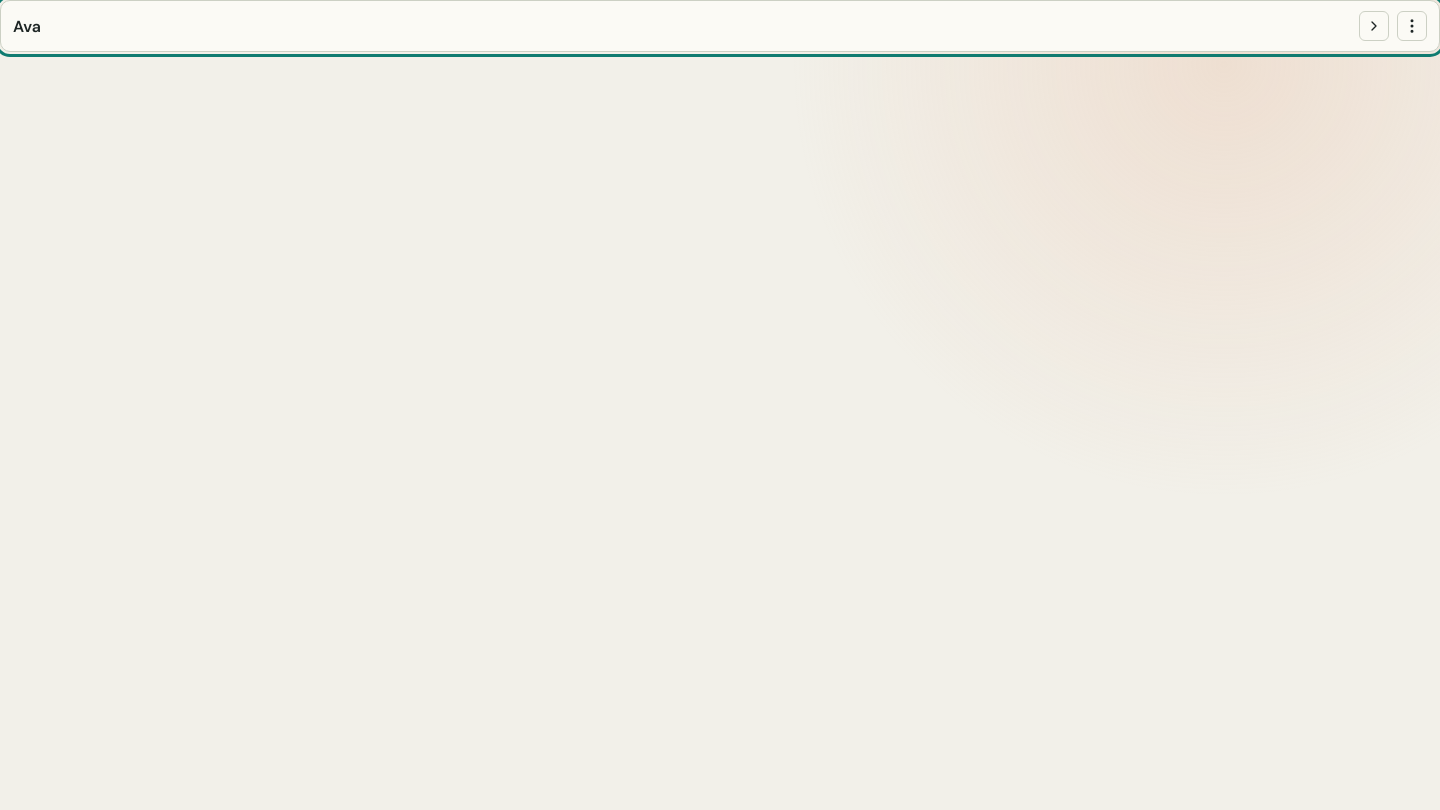
Test: PerformerCard details › opens details with Enter or Space when the card itself has focus
Step 1. Press Enter in the element "Ava", box [0,0,1439,52]
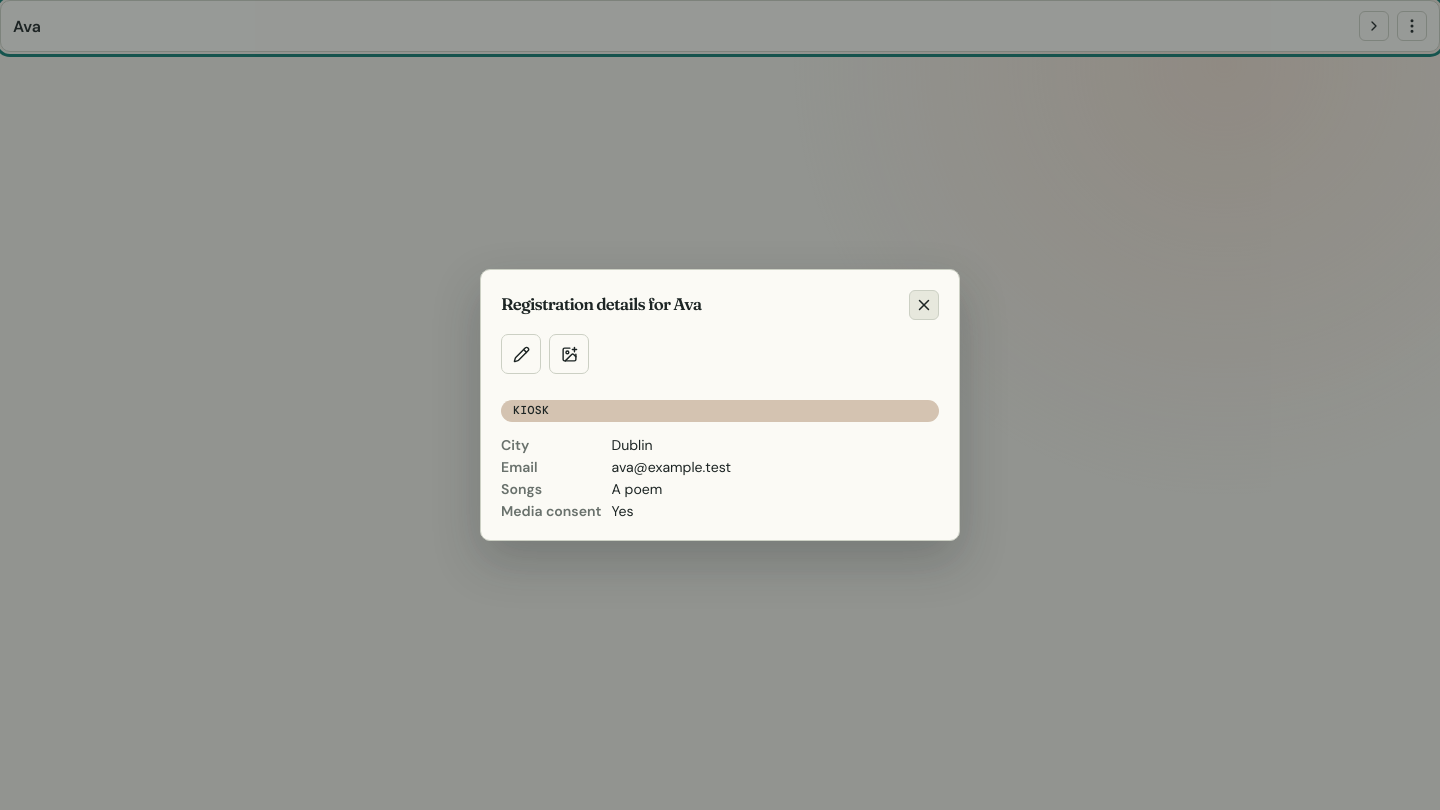
Expected: the dialog "Registration details for Ava" is shown, [480,269,960,541]
Step 2. Click the button named "Close" → (924, 305), box [909,290,939,320]
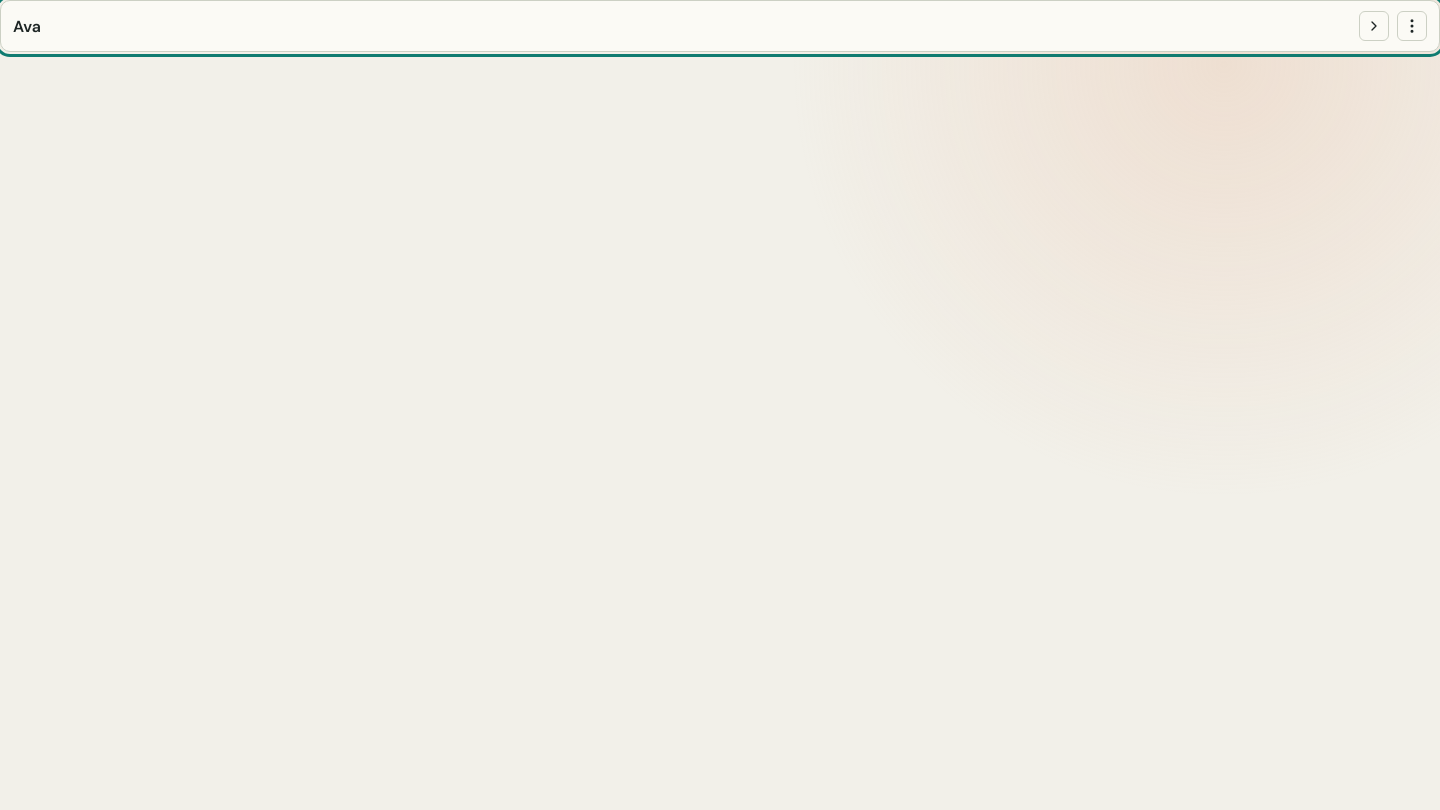
Step 3. Press Space in the element "Ava", box [0,0,1439,52]
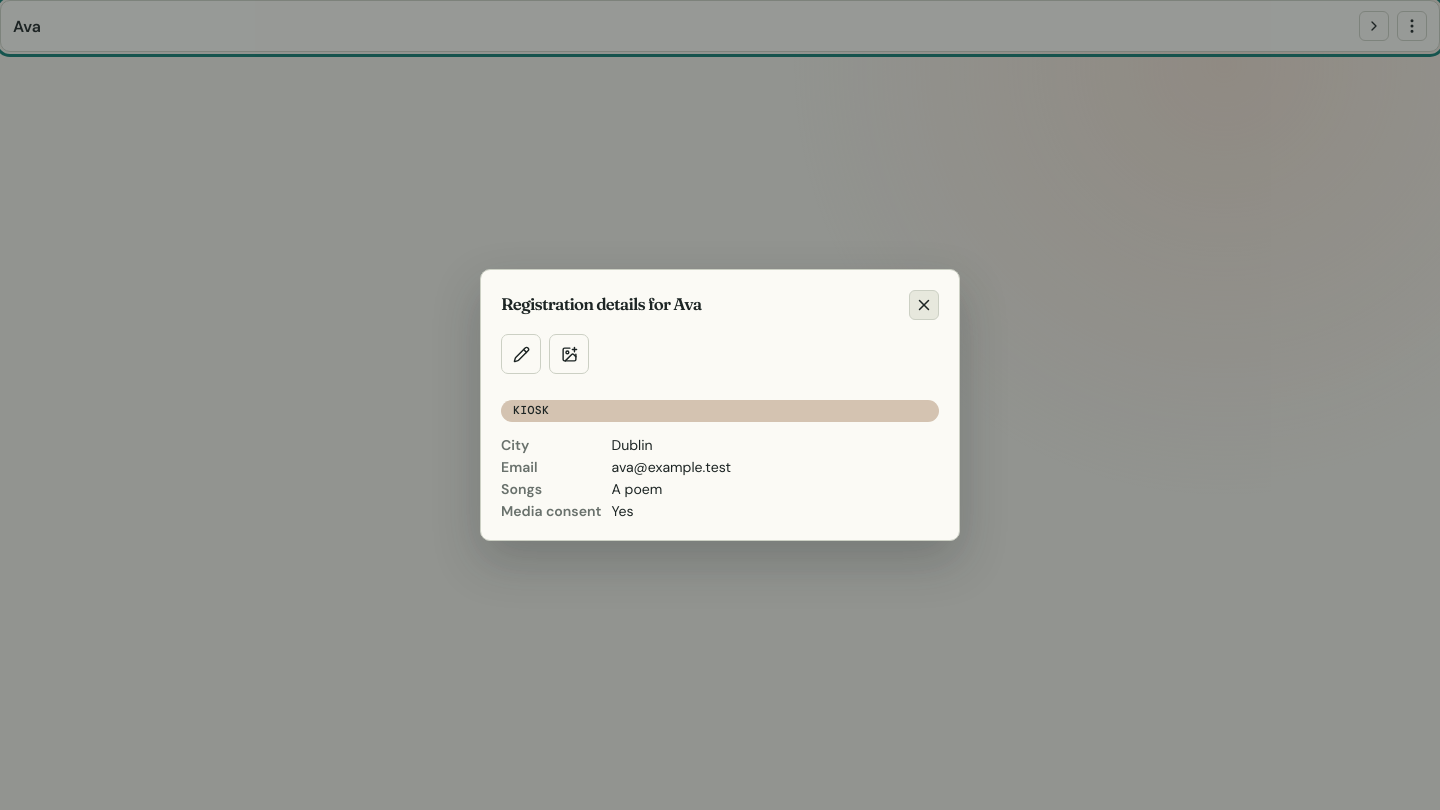
Expected: the dialog "Registration details for Ava" is shown, [480,269,960,541]
